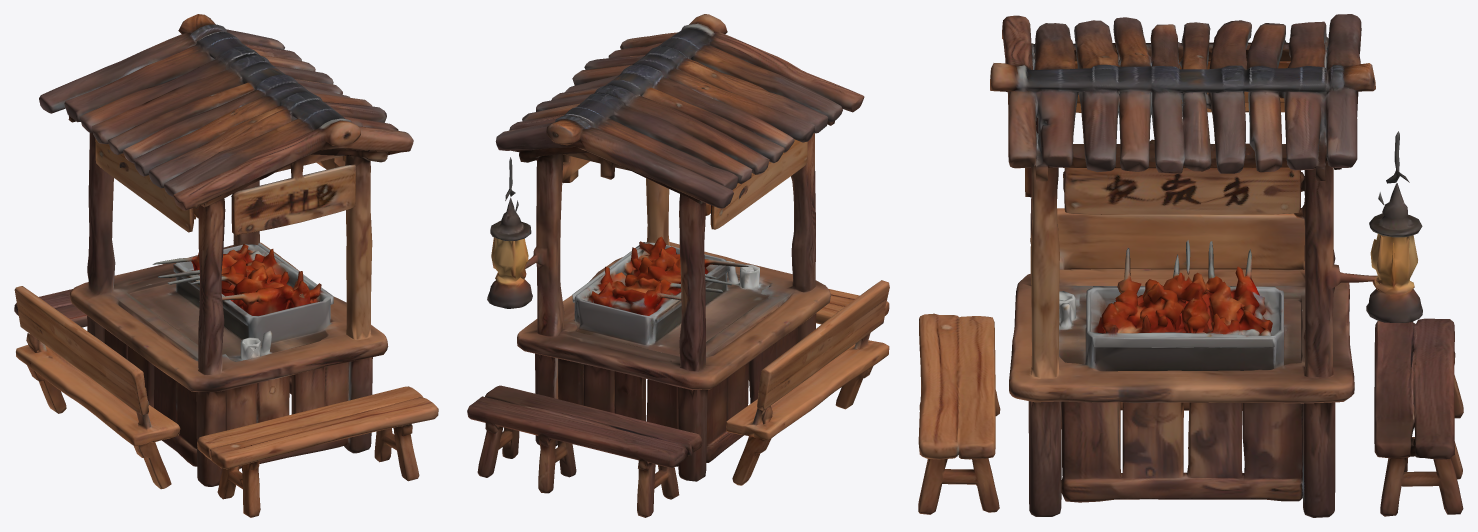
Rendered from suya.glb.
The picture shows the model from 3 angles, left to right: view 1: azimuth 30°, elevation 25°; view 2: azimuth 150°, elevation 25°; view 3: azimuth 270°, elevation 25°; orthographic projection. The views are drawn at different scales.
Visible parts, largest first — view 1: tripo_node_18330ad4-1dde-4953-b60a-43bbe9257bae; view 2: tripo_node_18330ad4-1dde-4953-b60a-43bbe9257bae; view 3: tripo_node_18330ad4-1dde-4953-b60a-43bbe9257bae.
Boxes of the visible parts, bbox=[...] form: tripo_node_18330ad4-1dde-4953-b60a-43bbe9257bae: bbox=[14, 14, 438, 517]; tripo_node_18330ad4-1dde-4953-b60a-43bbe9257bae: bbox=[467, 14, 889, 517]; tripo_node_18330ad4-1dde-4953-b60a-43bbe9257bae: bbox=[918, 14, 1463, 517].
Bounding box in the file's own units: 2.56 × 3.04 × 3.5.
1 material, 1 textured.
